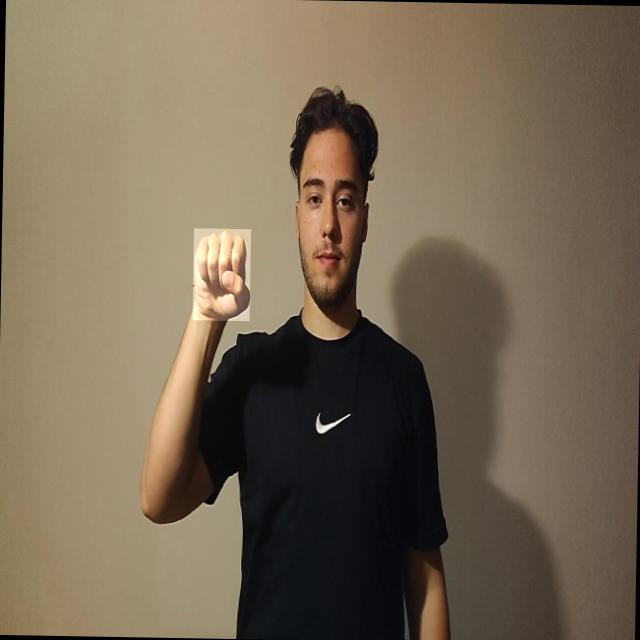yes: (192, 228, 251, 321)
